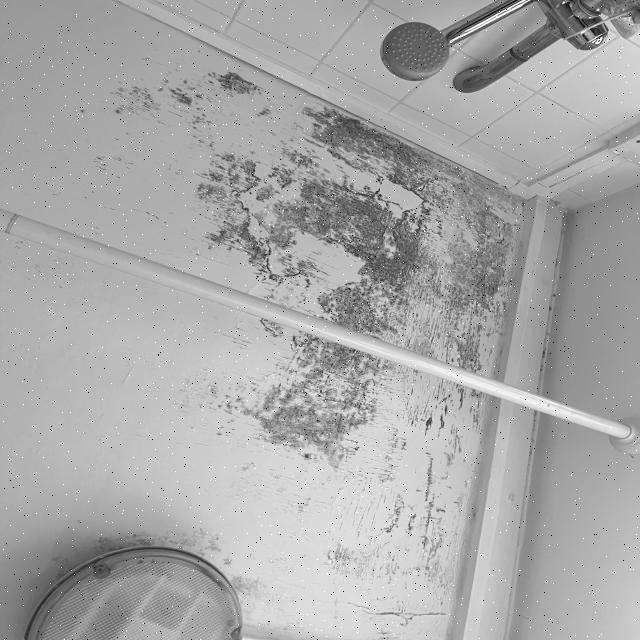stain marks: (289, 102, 432, 497), (438, 160, 546, 600), (185, 153, 288, 358), (300, 500, 433, 637), (64, 74, 284, 152), (190, 363, 294, 508)
